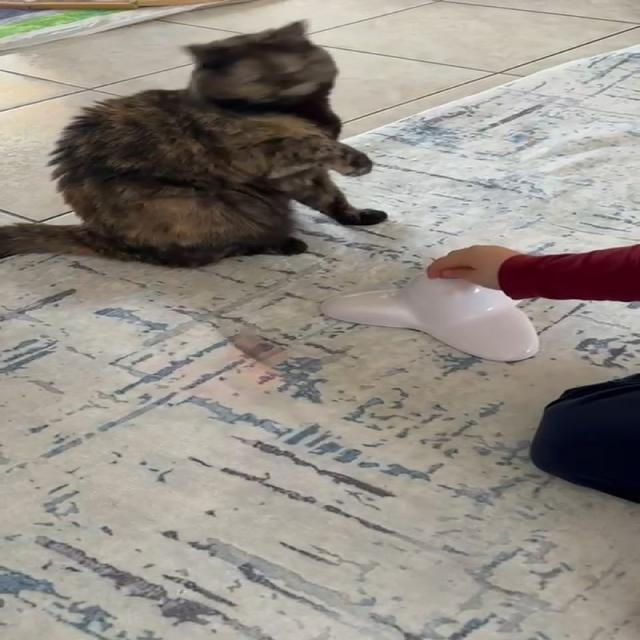authorized: (0, 18, 388, 269)
